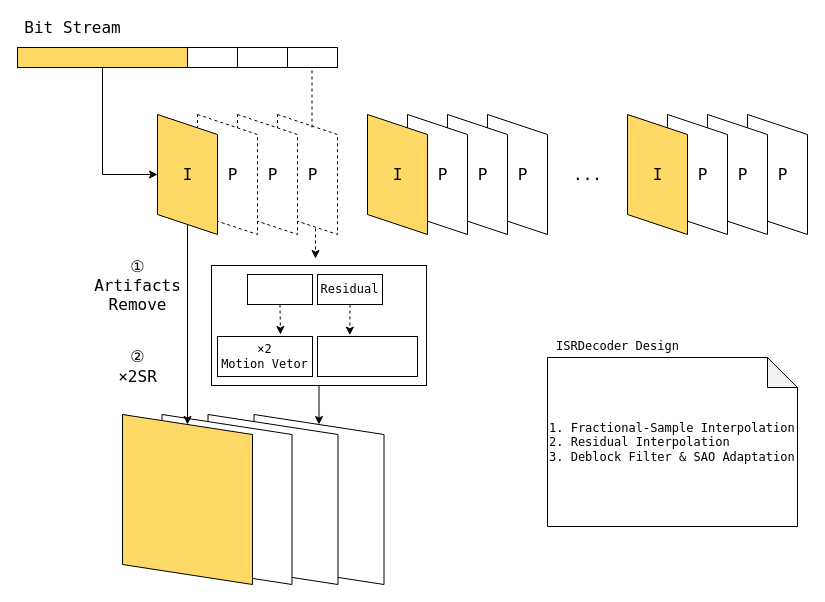
The diagram is 825 pixels wide and 602 high, and some of its shapes have lost their labels. The shapes that lost their labels are listed below. From the top down, each one's box as (x1, y1, x2, y2) in pixels, then its label:
(246, 274, 312, 304): Motion Vector
(316, 336, 418, 376): Interpolated Residual
